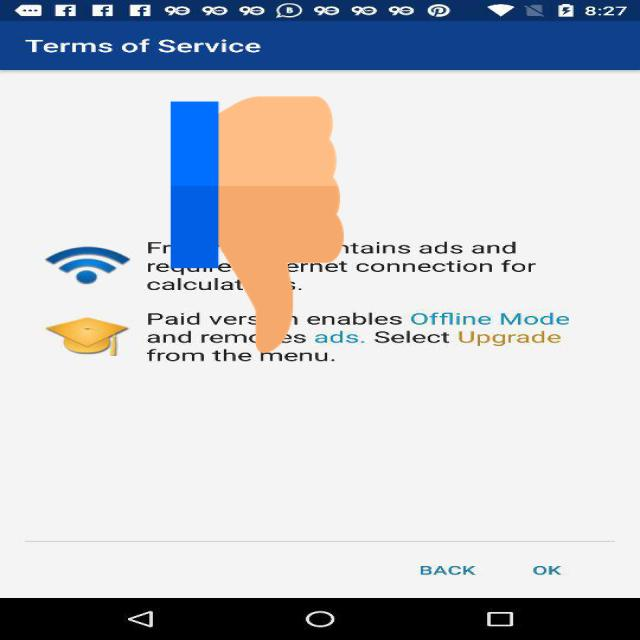obstruction: (170, 90, 344, 359)
